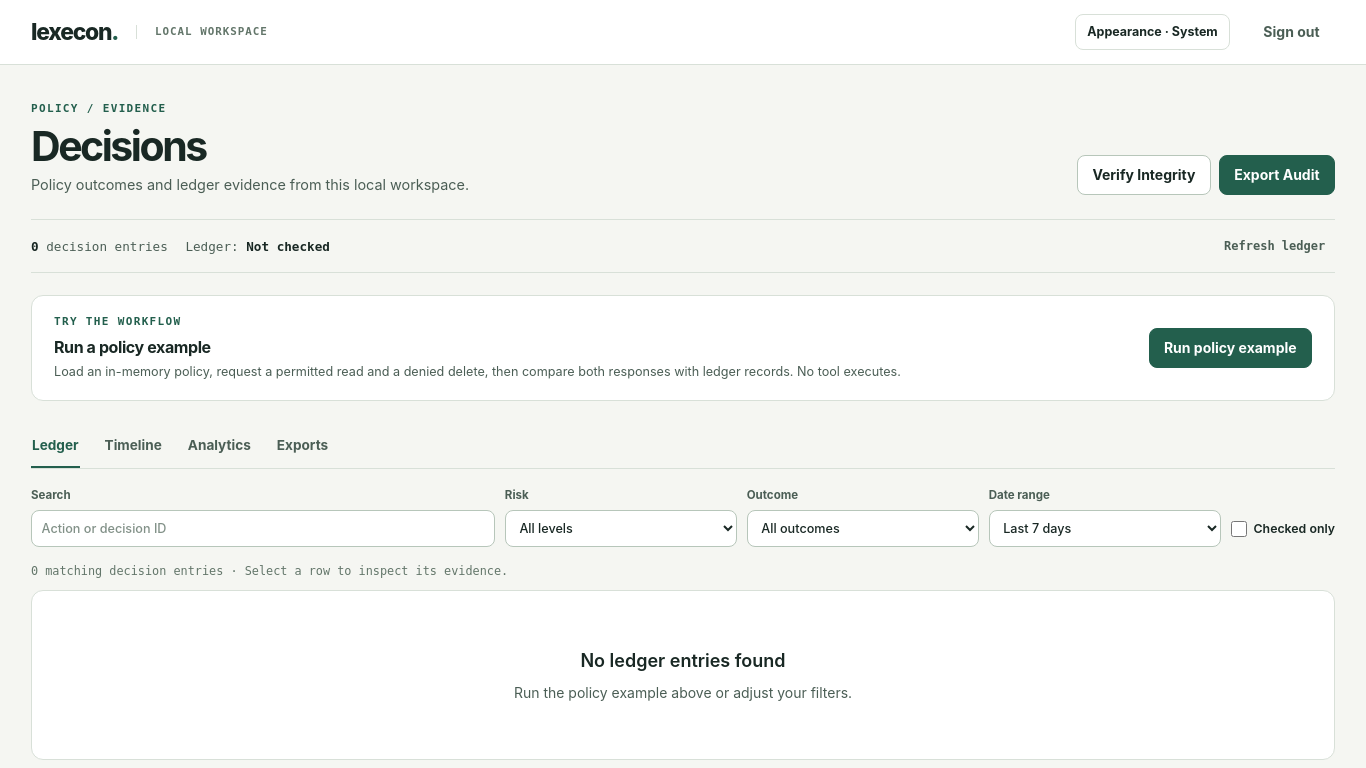
Test: a failed recheck clears an earlier ledger success and timestamp
What coordinates should you click on to do the following:
click the button "Verify Integrity"
I would click on:
 (1144, 175)
Its box is [1077,155,1211,195].
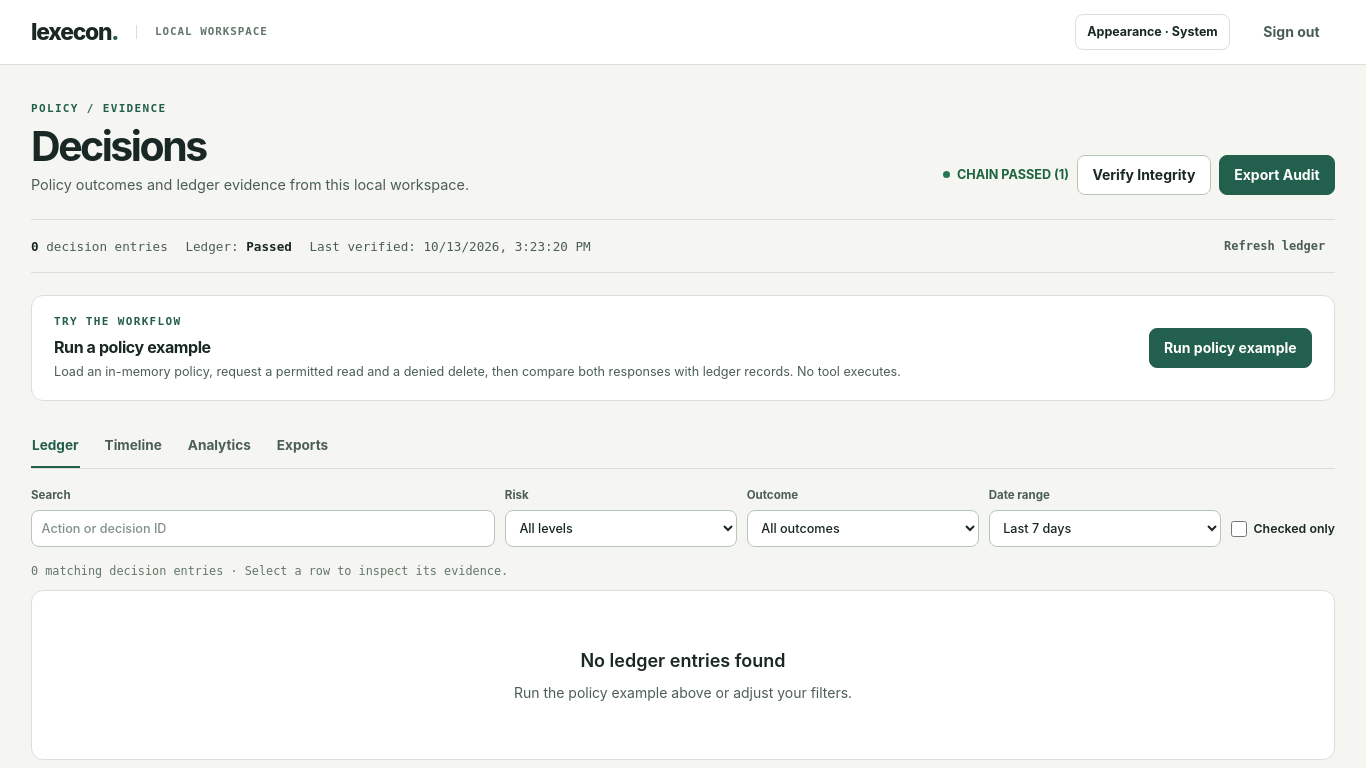
Now the text "CHAIN PASSED (1)" is shown, box [943,166,1069,185]
Now the text "Last verified: 10/13/2026, 3:23:20 PM" is shown, box [309,238,591,255]
What coordinates should you click on to do the following:
click the button "Verify Integrity"
I would click on:
 (1144, 175)
Its box is [1077,155,1211,195].
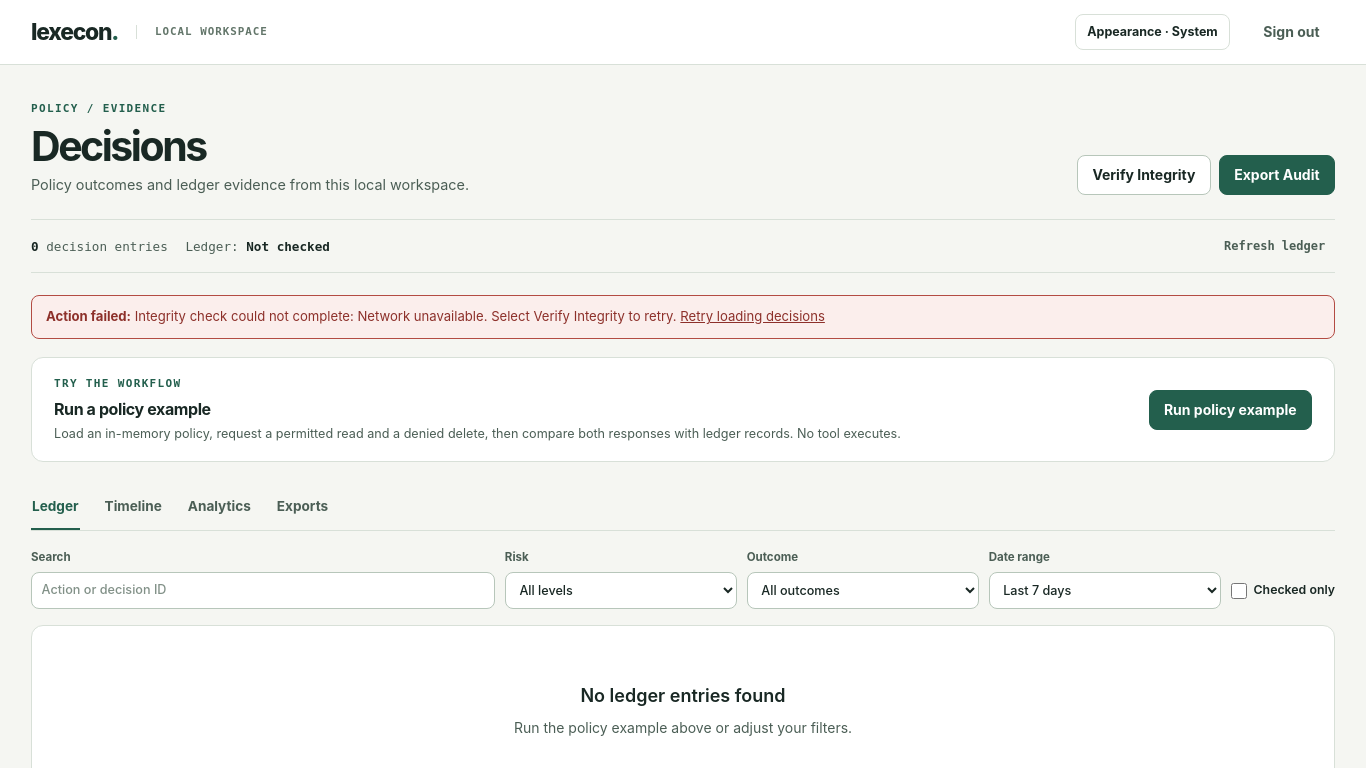
Now the text "CHAIN PASSED" is gone
Now the text "Integrity check could not complete:" is shown, box [135,308,677,324]
Now the text "Last verified:" is gone
